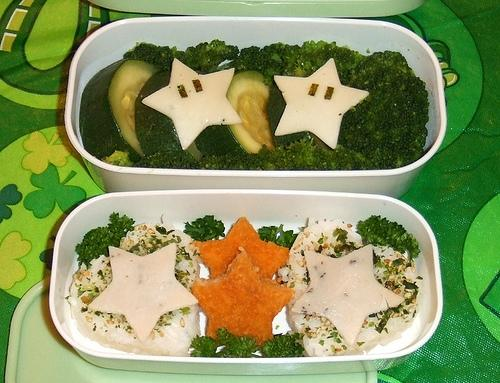broccoli: (338, 52, 429, 170), (75, 212, 136, 270), (132, 139, 202, 170), (302, 144, 378, 170), (192, 39, 240, 74), (357, 214, 407, 246), (123, 41, 174, 72), (322, 45, 360, 86), (216, 326, 260, 358), (182, 215, 225, 242), (261, 333, 306, 358), (266, 144, 304, 170), (190, 334, 220, 358), (259, 42, 286, 67), (232, 46, 260, 70), (101, 150, 135, 167), (224, 152, 250, 170), (365, 52, 386, 74), (202, 154, 228, 170), (296, 54, 314, 74), (246, 152, 264, 170), (302, 146, 316, 164), (288, 141, 303, 153)
